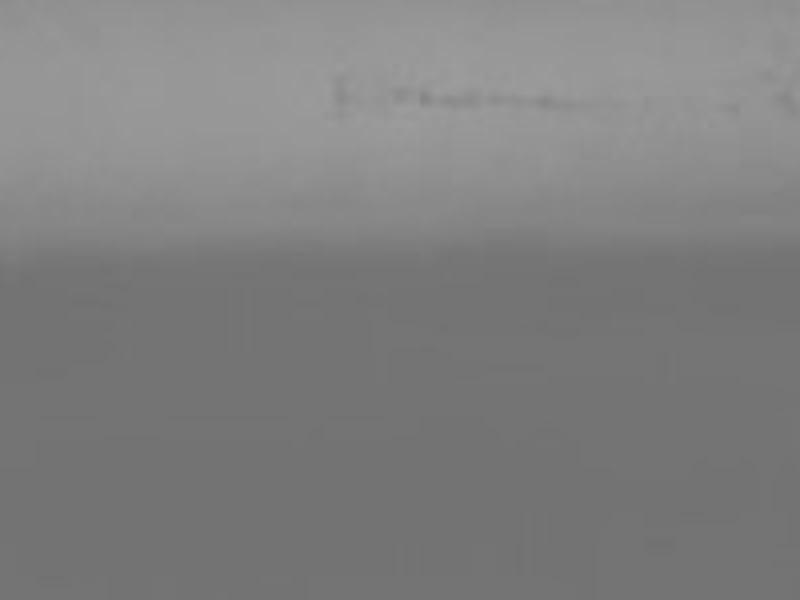defect: (334, 73, 357, 117), (445, 93, 487, 116), (489, 90, 530, 110), (722, 96, 743, 117), (390, 86, 409, 109), (540, 94, 558, 115), (418, 88, 432, 110)
